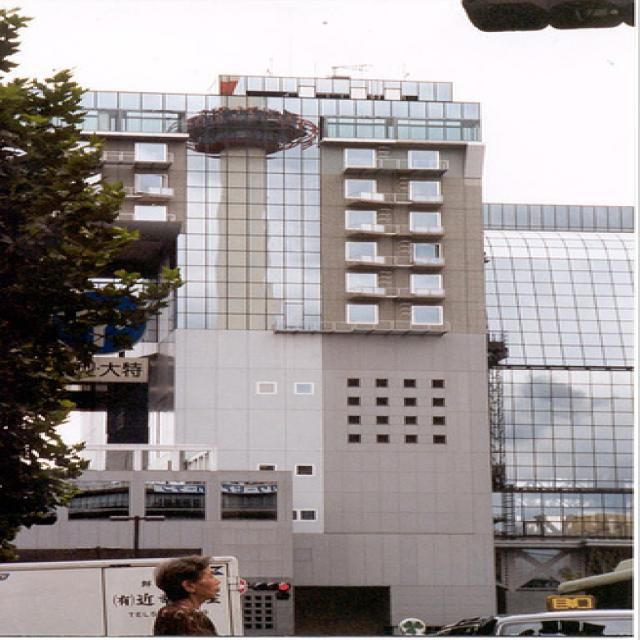person: (152, 555, 222, 637)
